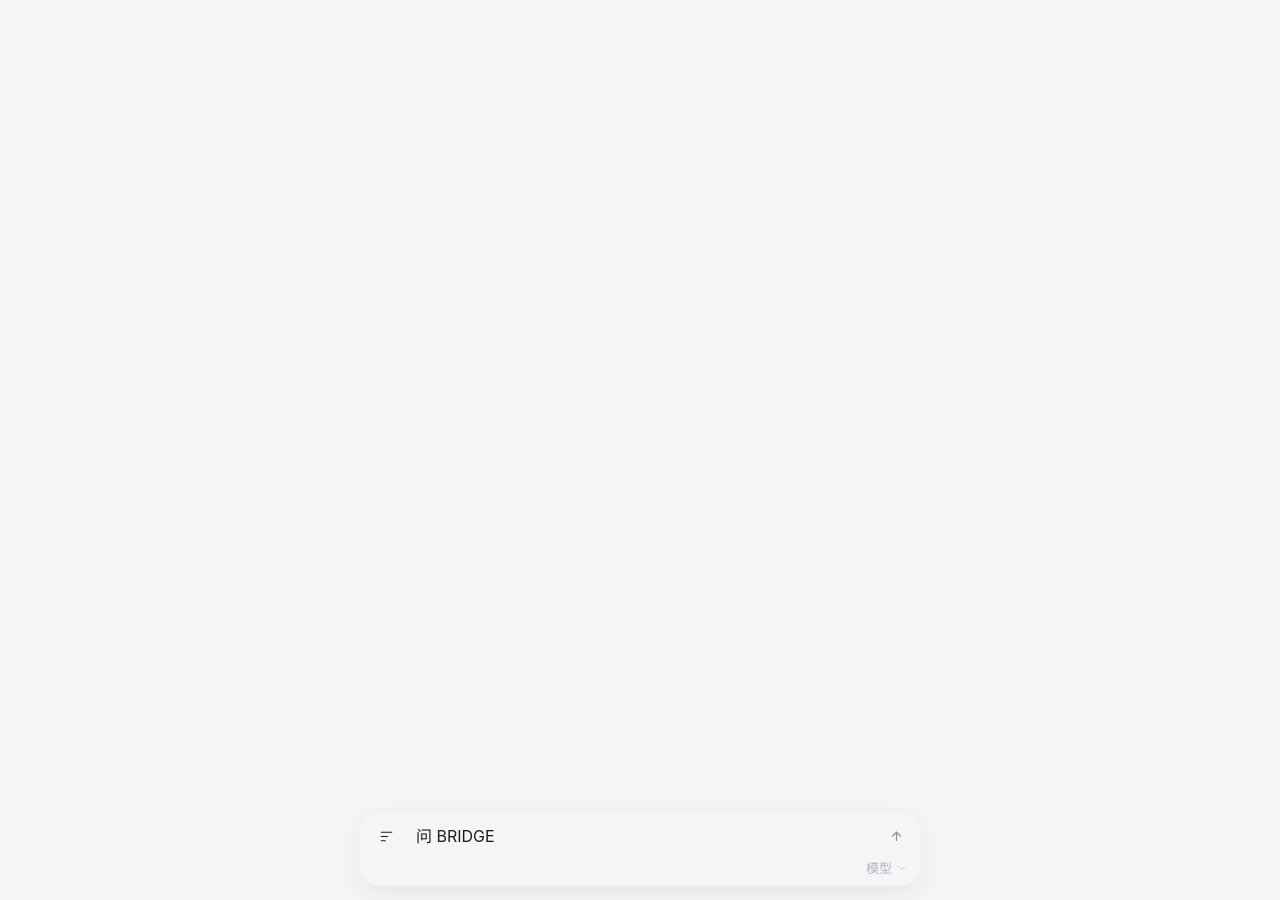
ignores a late read after the bound scope is replaced
Click the button named "展开对话" at (386, 836), box [368, 818, 404, 854]
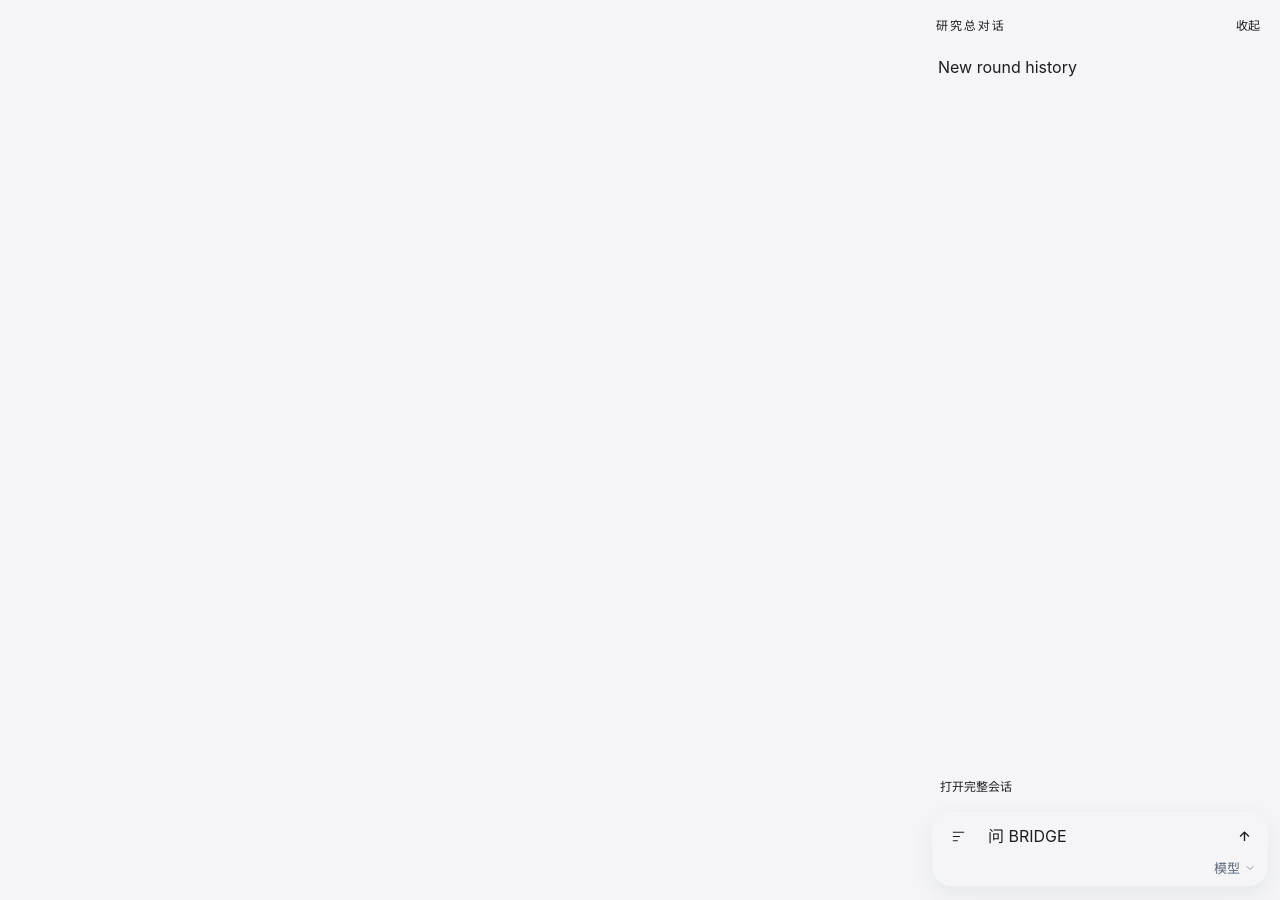
Expected: the text "New round history" is shown, [938, 57, 1077, 77]
